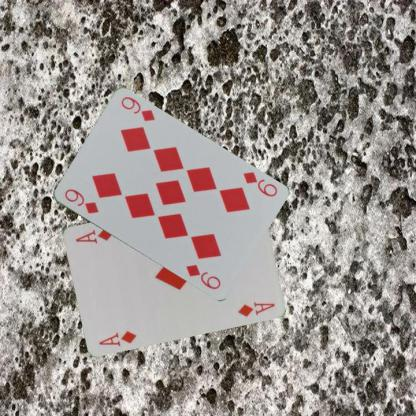9d: (61, 186, 100, 216), (240, 169, 278, 198)
Ad: (97, 328, 138, 347)
